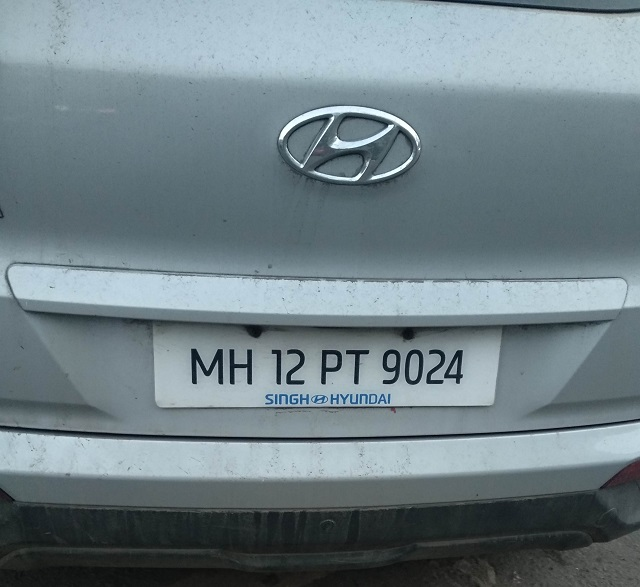licenseplate: (147, 315, 504, 413)
